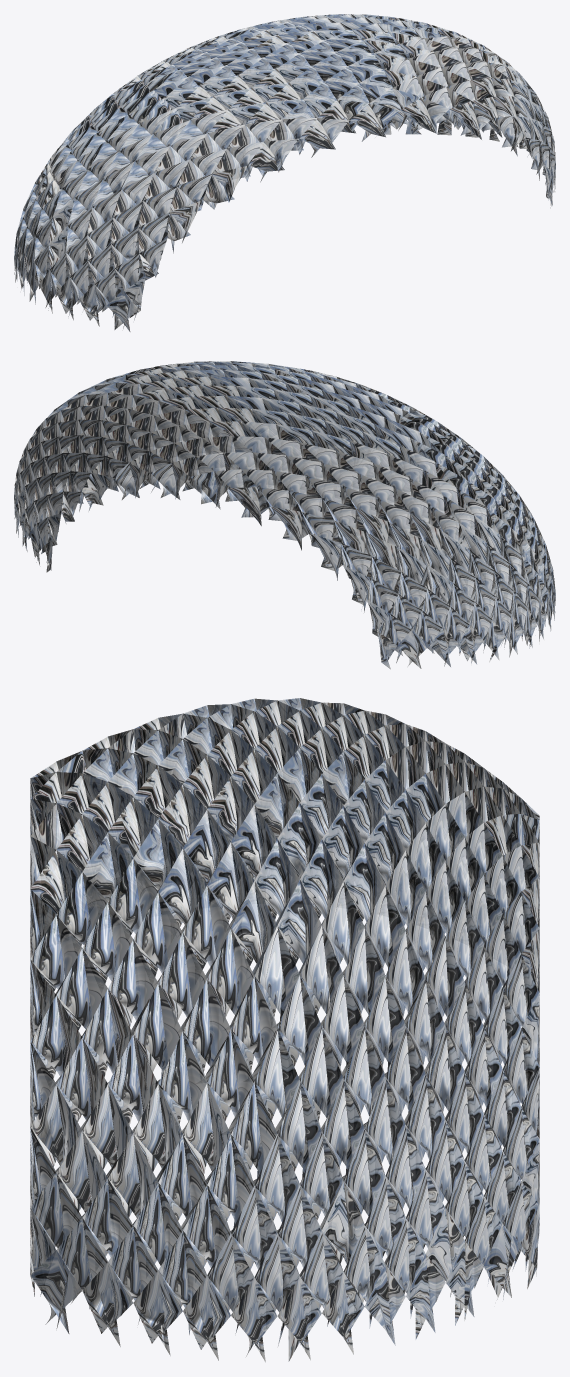
The model's file is u1-2-color.glb.
The picture shows the model from 3 angles, top to bottom: view 1: azimuth 30°, elevation 25°; view 2: azimuth 150°, elevation 25°; view 3: azimuth 270°, elevation 25°; orthographic projection. The views are drawn at different scales.
Visible parts, largest first — view 1: [0]; view 2: [0]; view 3: [0].
Boxes of the visible parts, box(x1,y1,x2,y2) form: [0]: box(14, 14, 555, 331); [0]: box(14, 361, 555, 669); [0]: box(30, 698, 539, 1362).
Bounding box in the file's own units: 4.62 × 1.68 × 1.99.
Materials: 1 (1 with a texture image).
